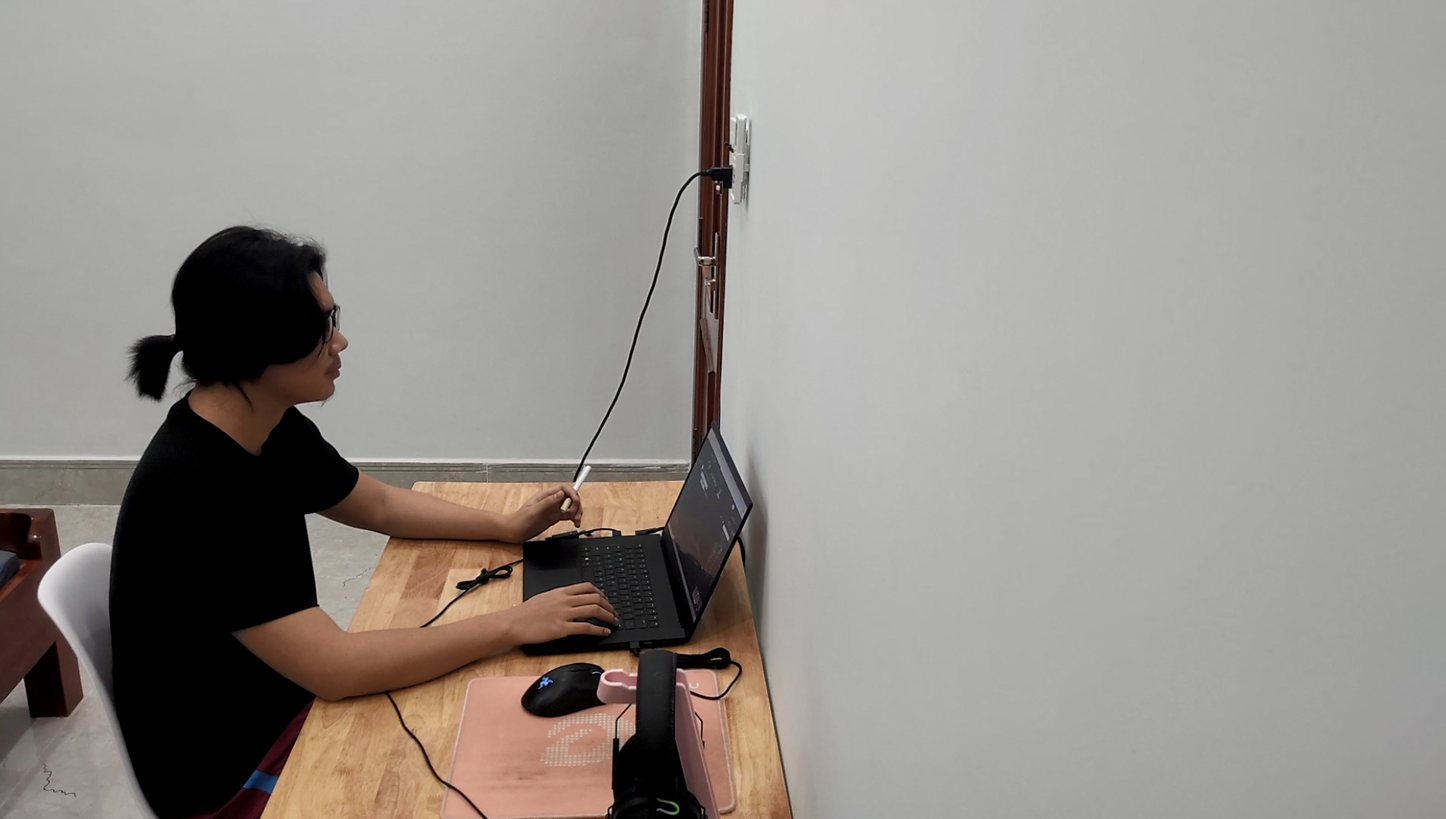cigarette: (560, 460, 590, 520)
person: (91, 196, 468, 819)
